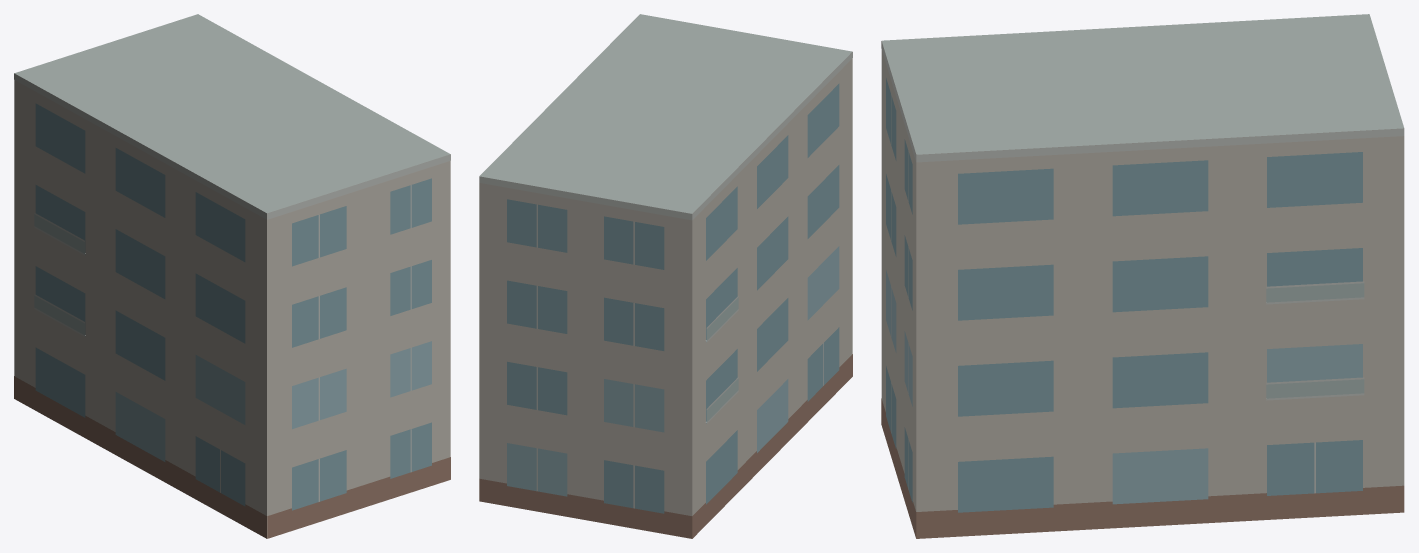
The model's file is residential-28f01219-1d79-403d-a5b9-6beaabc8fc78.glb.
The picture shows the model from 3 angles, left to right: view 1: azimuth 30°, elevation 25°; view 2: azimuth 150°, elevation 25°; view 3: azimuth 270°, elevation 25°; orthographic projection. The views are drawn at different scales.
Parts seen in each view (by area): view 1: residential-28f01219-1d79-403d-a5b9-6beaabc8fc78.tmp; view 2: residential-28f01219-1d79-403d-a5b9-6beaabc8fc78.tmp; view 3: residential-28f01219-1d79-403d-a5b9-6beaabc8fc78.tmp.
Part boxes in pixels (x1,y1,x2,y2): residential-28f01219-1d79-403d-a5b9-6beaabc8fc78.tmp: (14, 14, 450, 538); residential-28f01219-1d79-403d-a5b9-6beaabc8fc78.tmp: (479, 14, 852, 538); residential-28f01219-1d79-403d-a5b9-6beaabc8fc78.tmp: (881, 14, 1404, 538).
Bounding box in the file's own units: 9.6 × 12.2 × 15.06.
